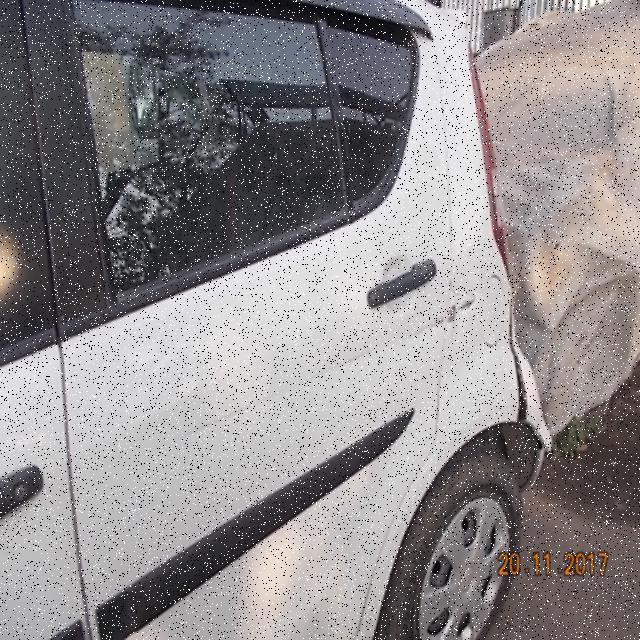doorouter-dent: (74, 244, 447, 638)
quaterpanel-dent: (441, 208, 526, 550)
